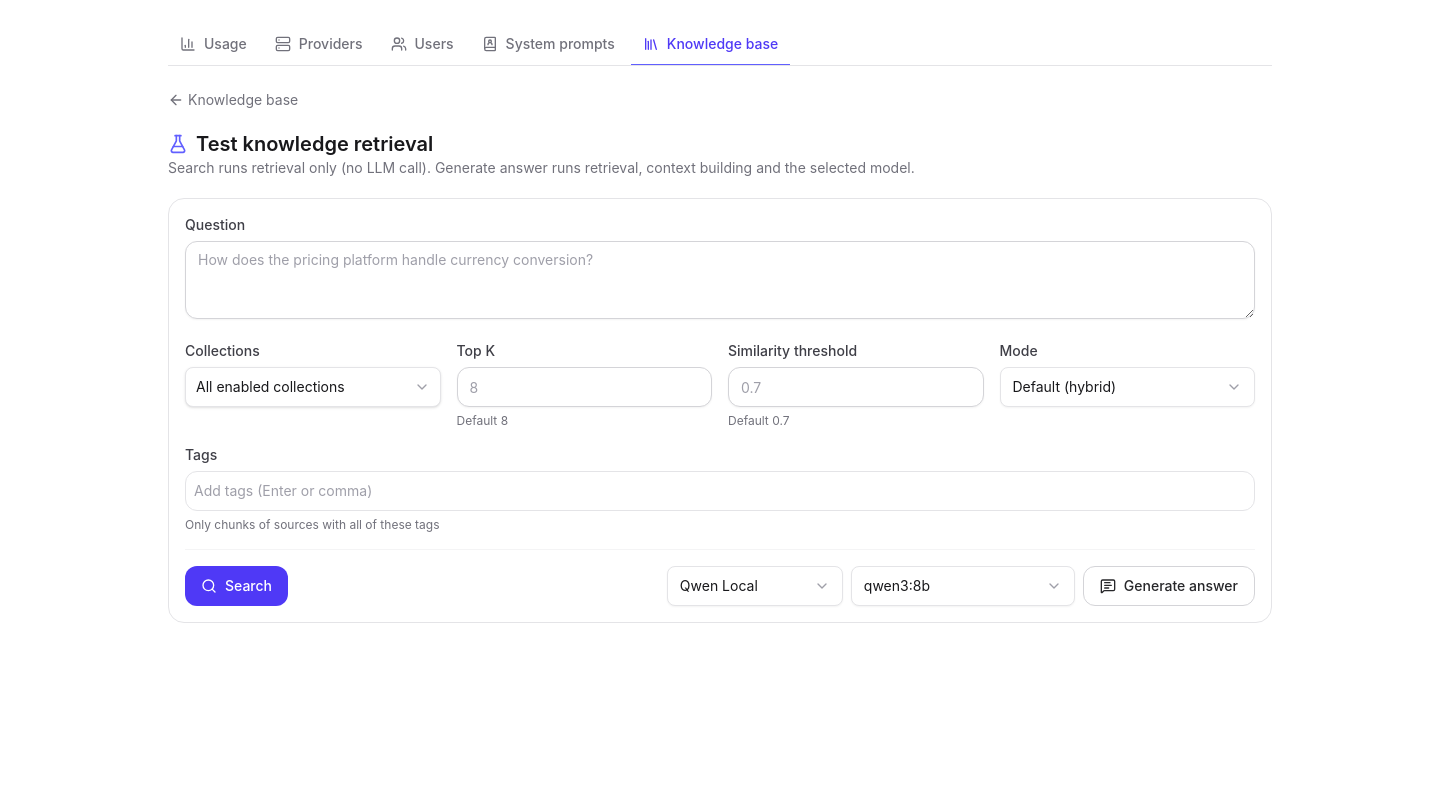
Test: KnowledgeTestPage › generates an answer with the selected model and shows its sources and prompt
The width and height of the screenshot is (1440, 810).
Check: the button with aria-label "Answer model" reads "qwen3:8b", box 851,566 -> 1075,606
Type "How is currency converted?" into the text box labelled "Question" at (720, 280), box 185,241 -> 1255,319
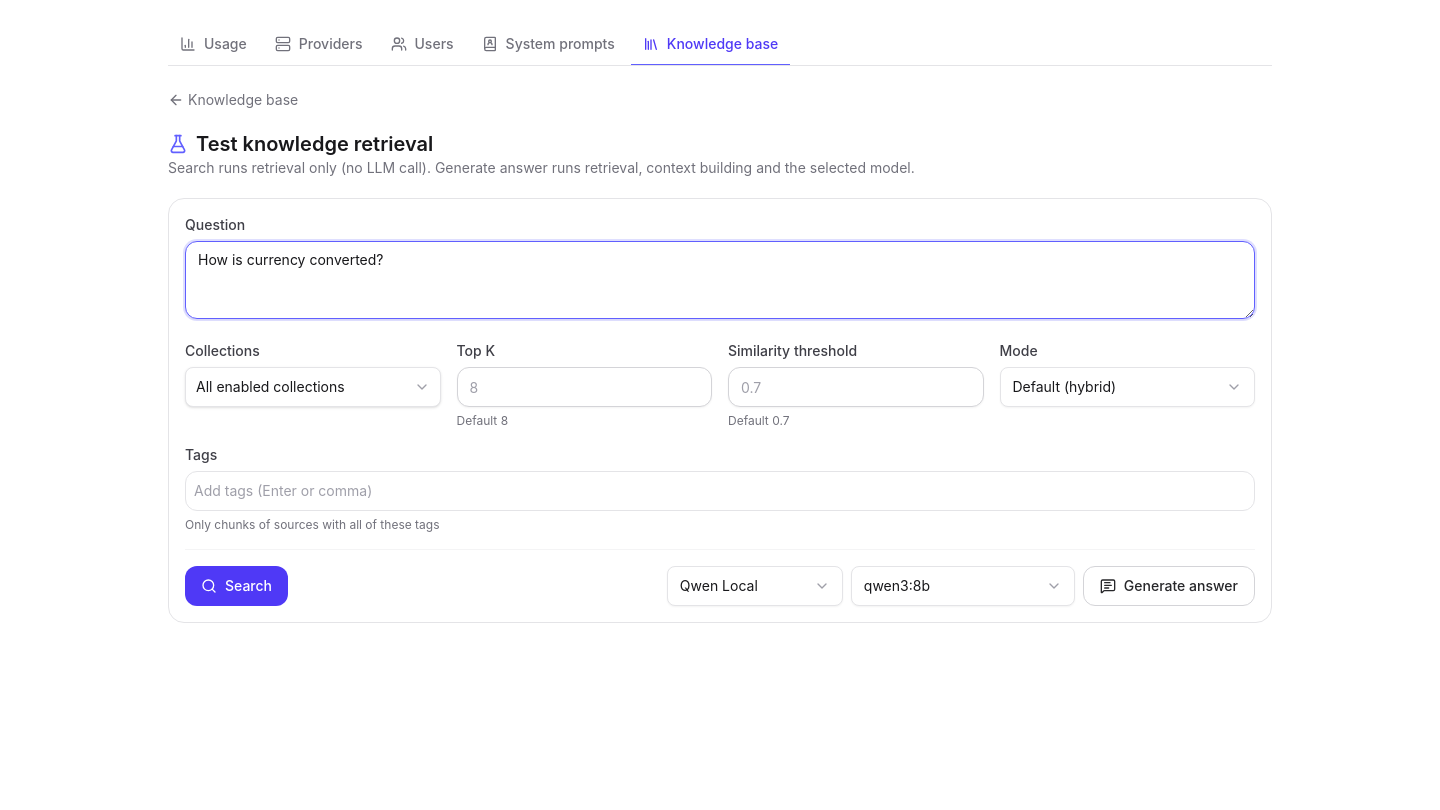
Click the button "Generate answer" at (1169, 586), box 1083,566 -> 1255,606
(page scrolled)
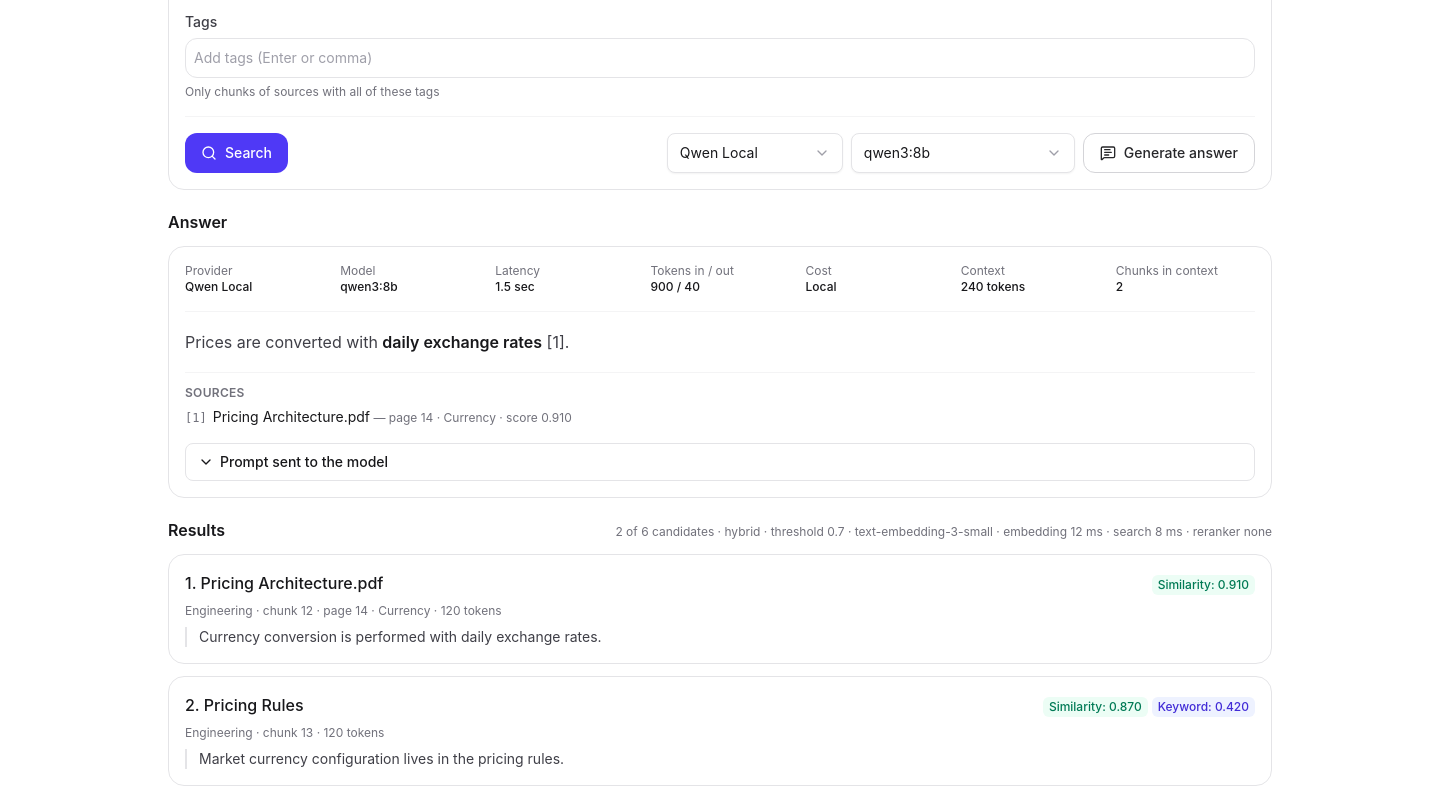
Check: the text "daily exchange rates" is shown, box 382,332 -> 542,352
Check: the element named "Generated answer" shows "Qwen Local", box 185,279 -> 252,294
Check: the element named "Generated answer" shows "qwen3:8b", box 340,279 -> 398,294
